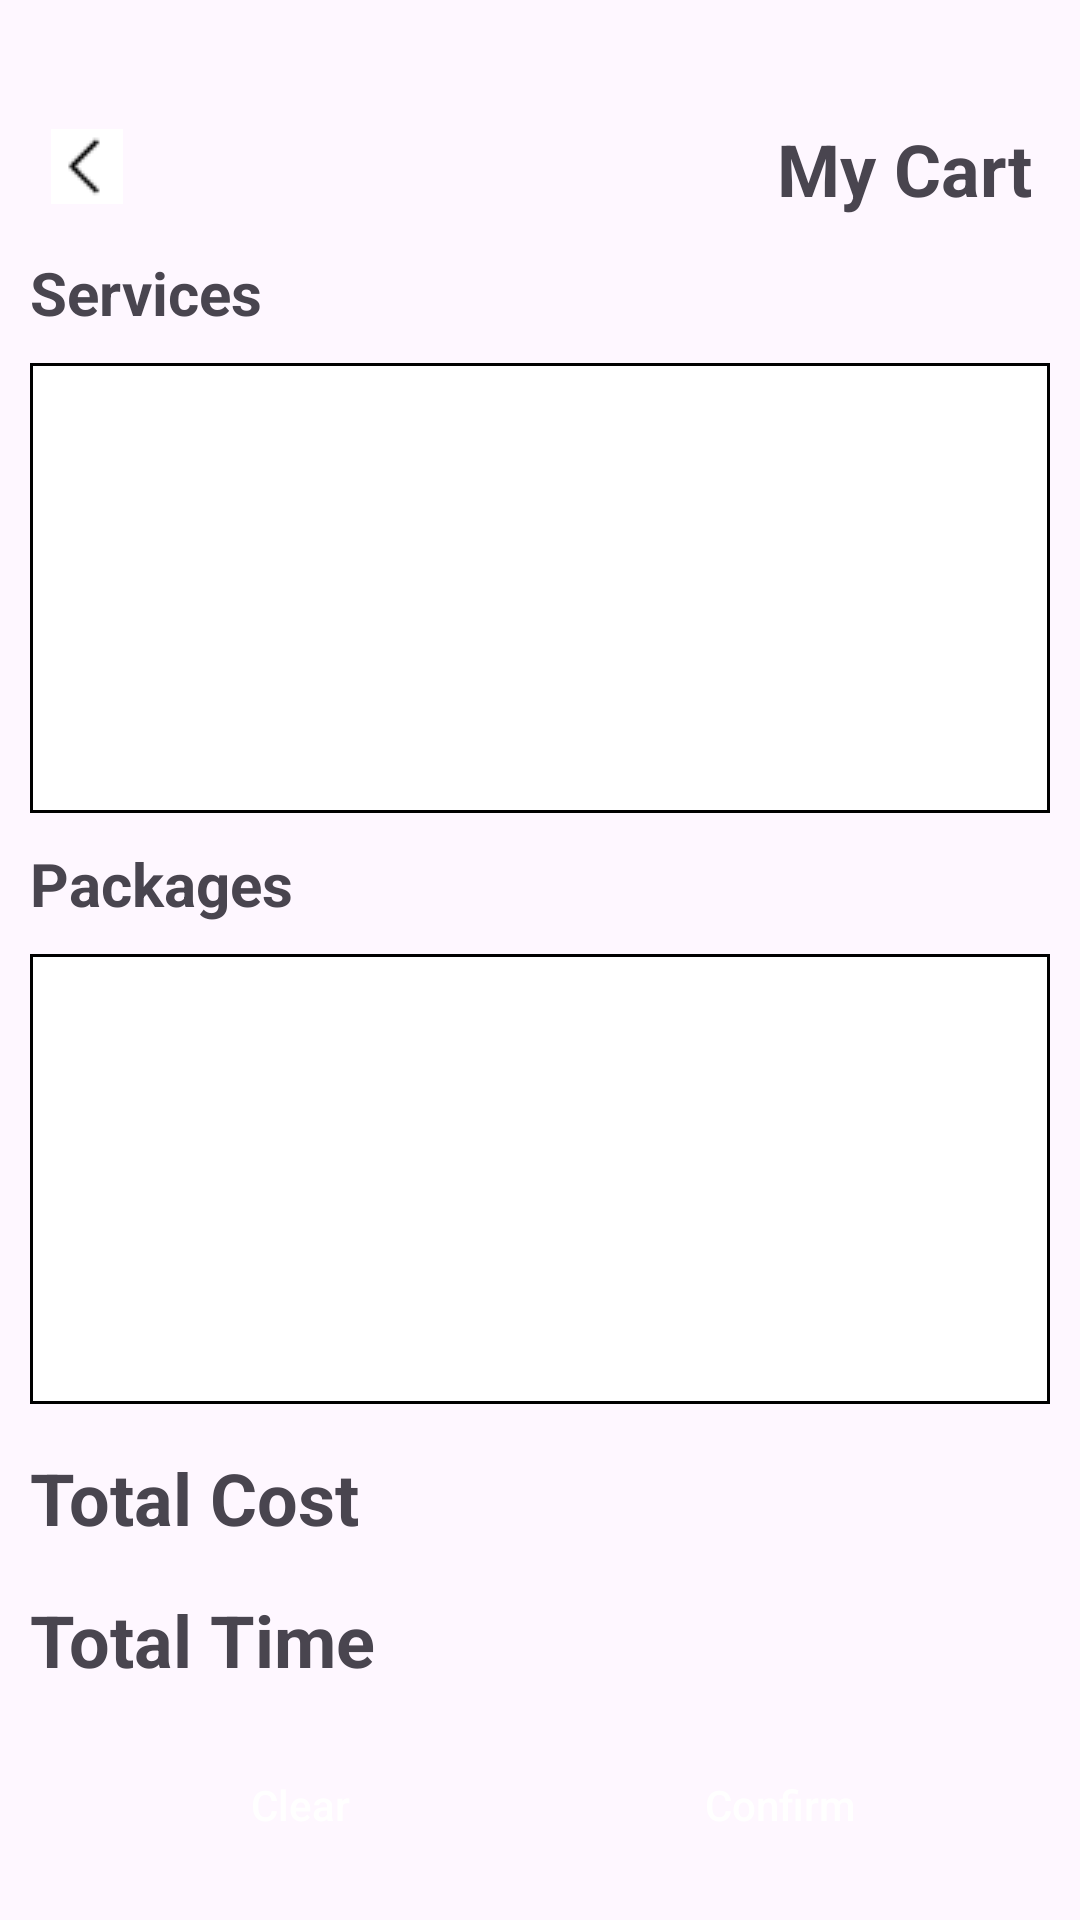

Screen size 1080 x 1920. Icon name, then its center in pixels as point (x, y):
back: point (84, 166)
